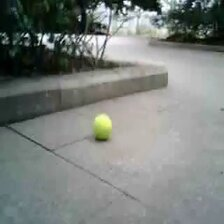tennis: (94, 113, 112, 140)
